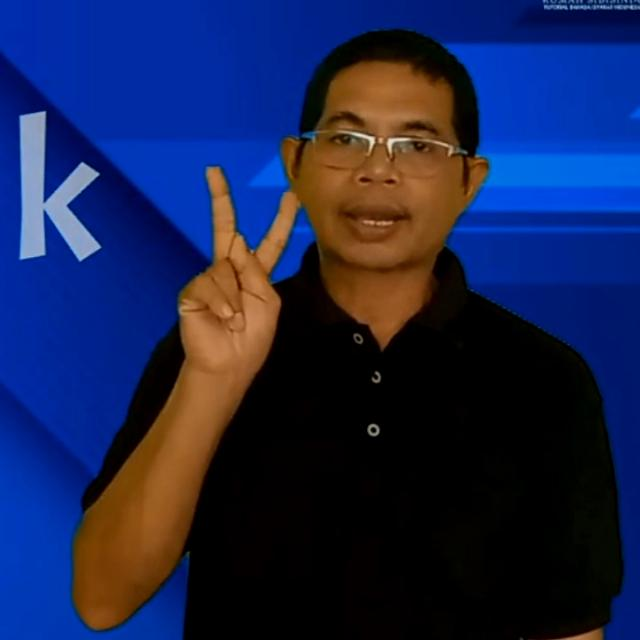K: (172, 164, 298, 386)
